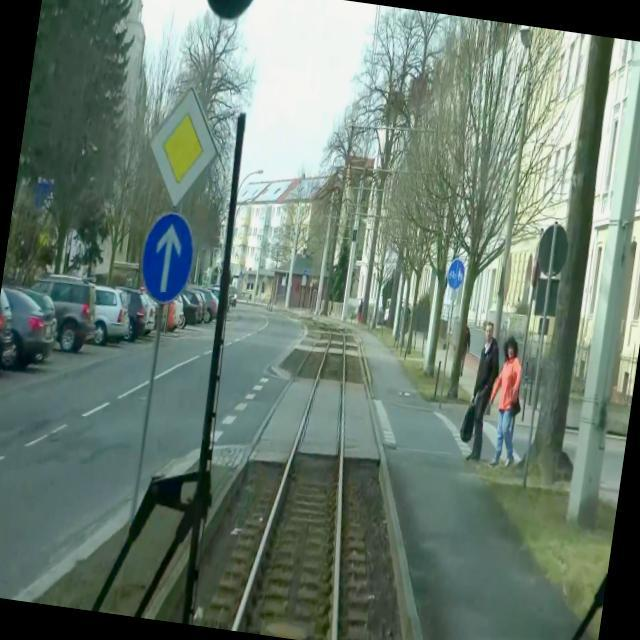rail: (200, 309, 378, 640)
